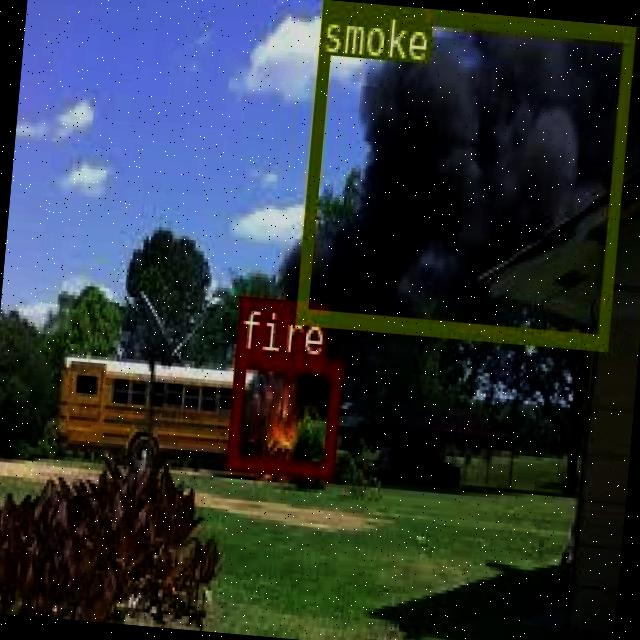fire: (225, 348, 342, 474)
smoke: (293, 0, 634, 345)
